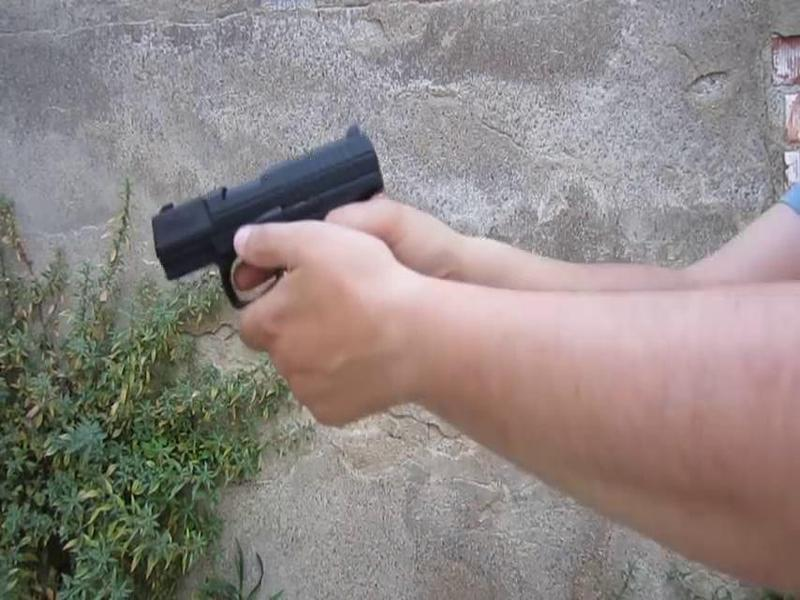Pistola: (132, 117, 383, 323)
